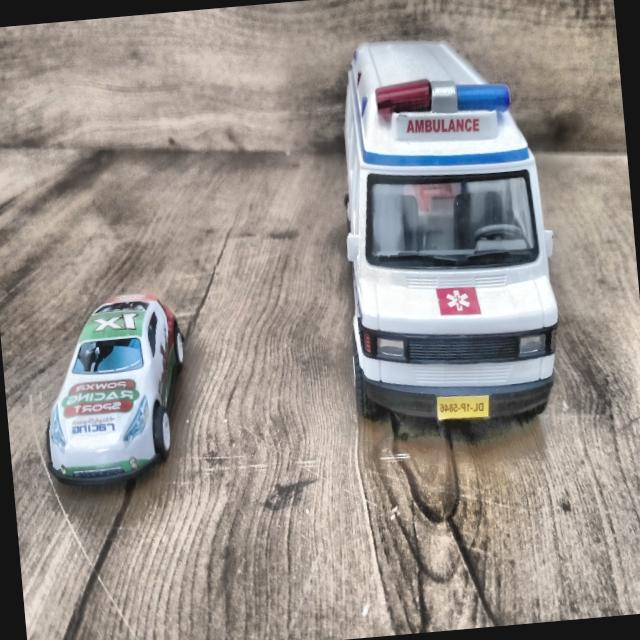Ambulance: (314, 16, 573, 453)
Car: (32, 288, 198, 496)
